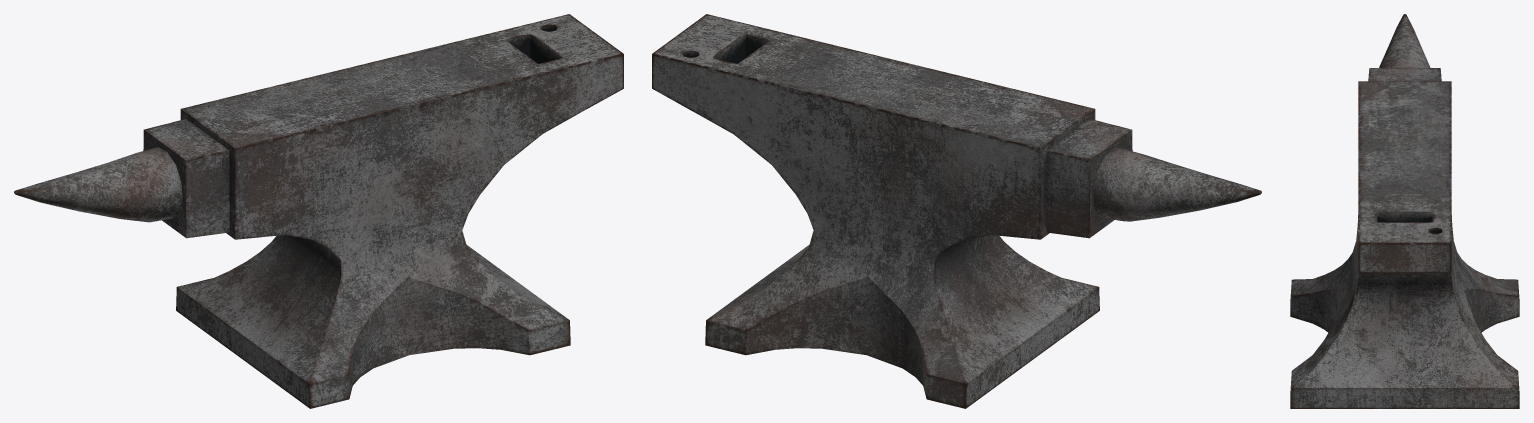
File: anvil_low-poly.glb
3 renders of one model, left to right at view 1: azimuth 30°, elevation 25°; view 2: azimuth 150°, elevation 25°; view 3: azimuth 270°, elevation 25°, orthographic. The views are drawn at different scales.
Visible parts, largest first — view 1: anvil_low; view 2: anvil_low; view 3: anvil_low.
Boxes of the visible parts, x1=… form: anvil_low: x1=14, y1=14, x2=623, y2=408; anvil_low: x1=652, y1=14, x2=1261, y2=408; anvil_low: x1=1290, y1=14, x2=1519, y2=408.
Size of the model in its own units: 1.06 by 0.4179 by 0.4243.
Materials: 1 (1 with a texture image).
